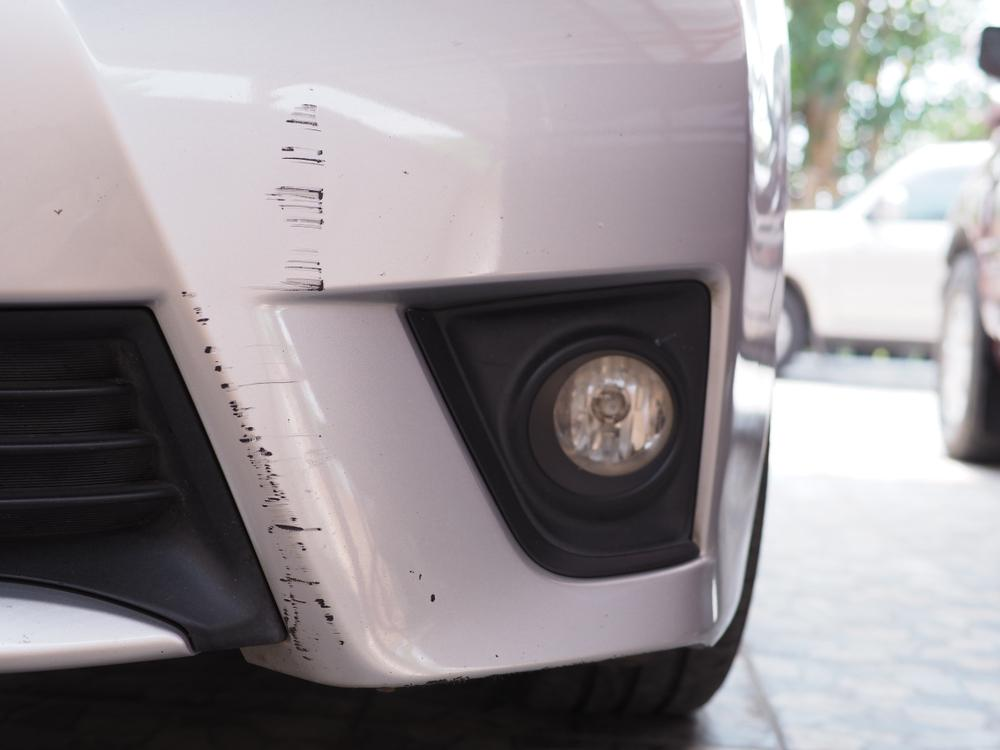scratch: (180, 290, 349, 658), (277, 93, 328, 297)
